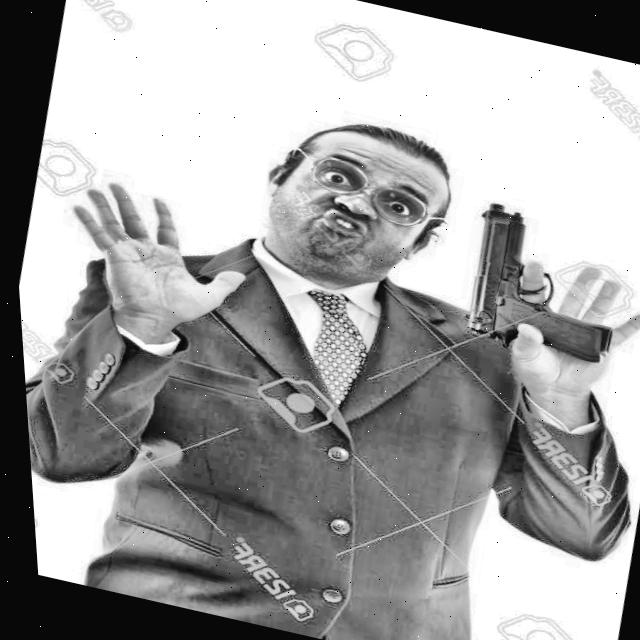pistol: (433, 157, 640, 384)
